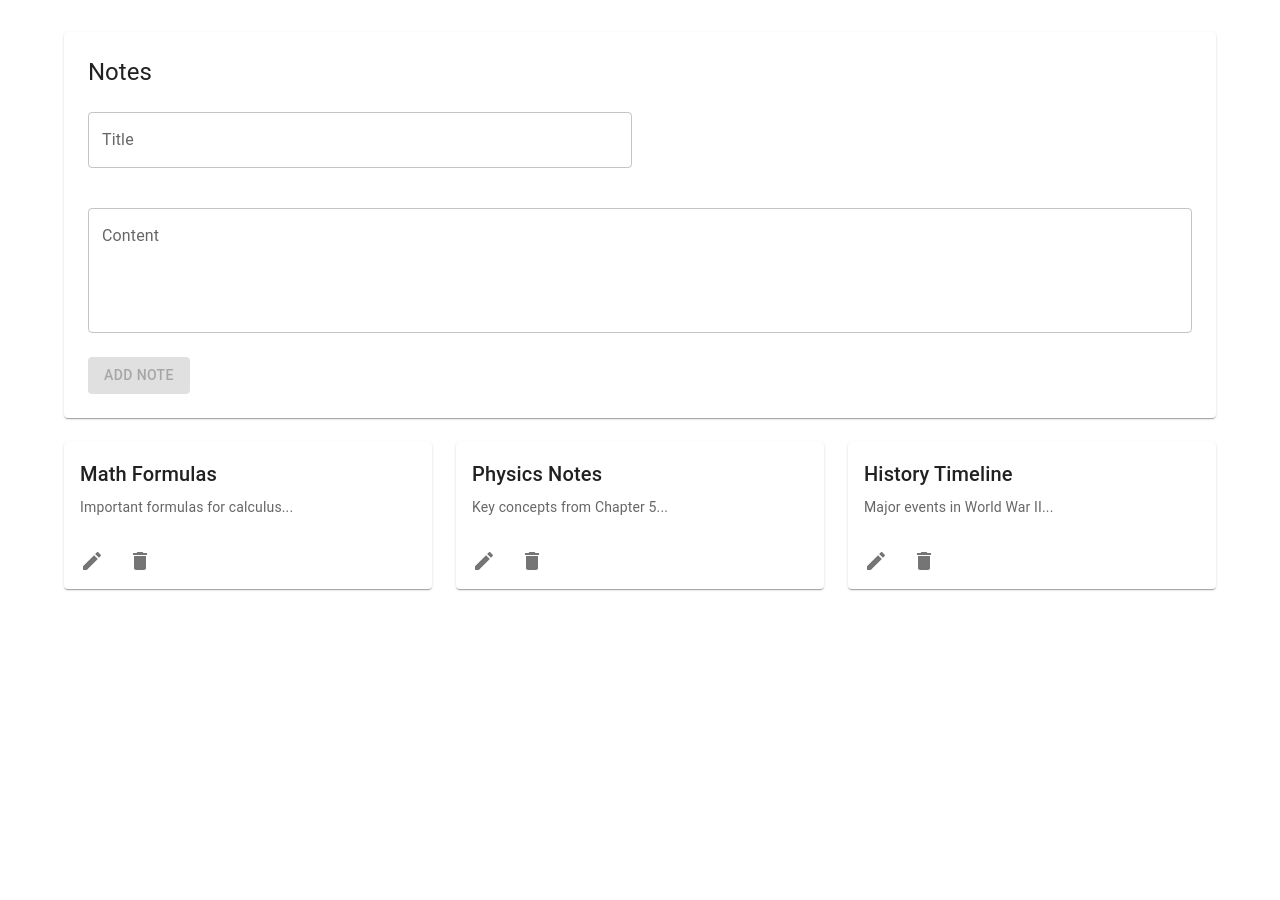
Test case: Notes Component › edits an existing note
Find and click edit button for first note
Step 1. Click the 1st button with test id "EditIcon" → point(92, 561), box [72,541,112,581]
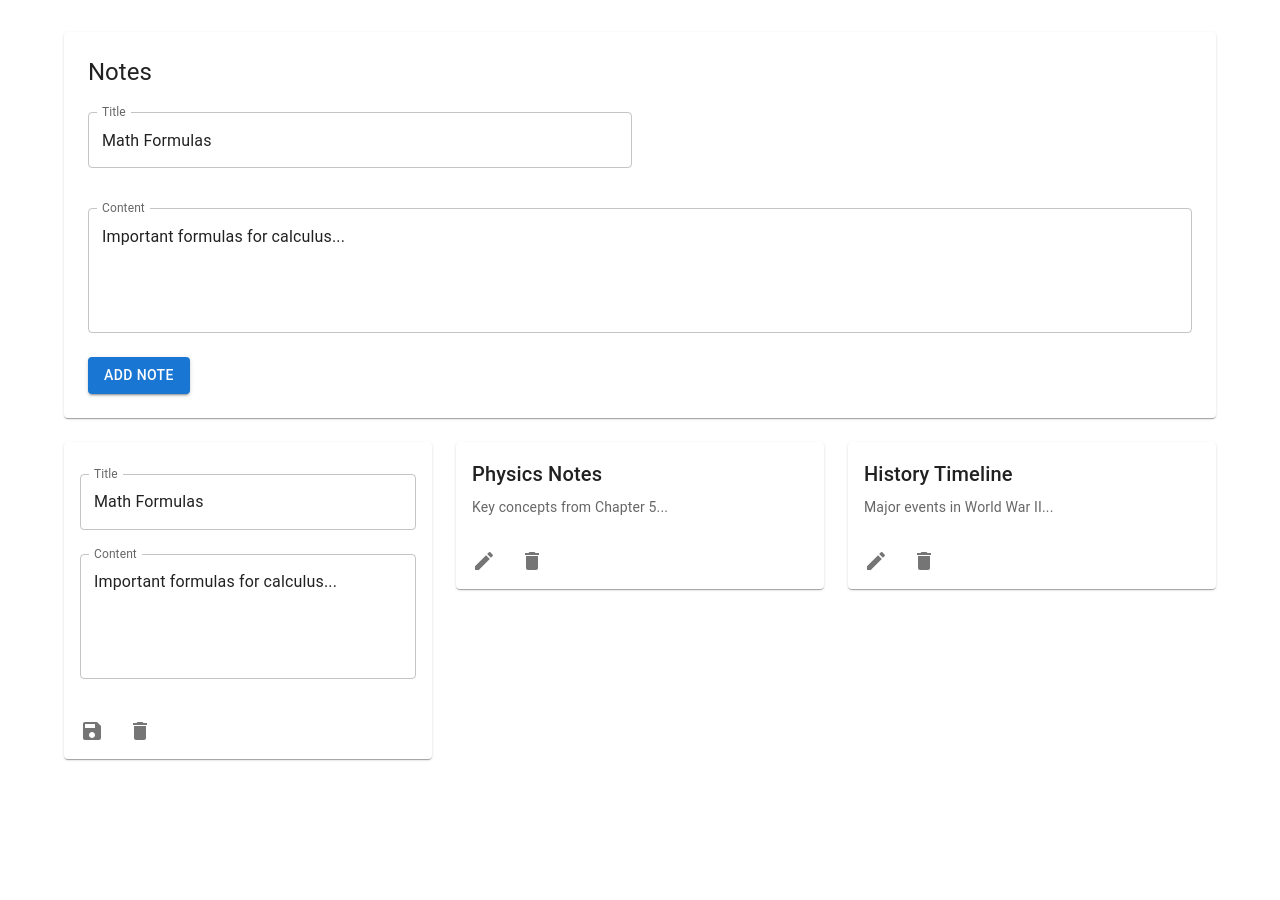
Now the 1st field labelled "Title" holds "Math Formulas"
Now the 1st text box labelled "Content" holds "Important formulas for calculus...", box [102,225,1178,317]
Edit the note
Step 2. Replace the text in the 1st field labelled "Title" with "Updated Math Formulas" → point(360, 140), box [88,112,632,168]
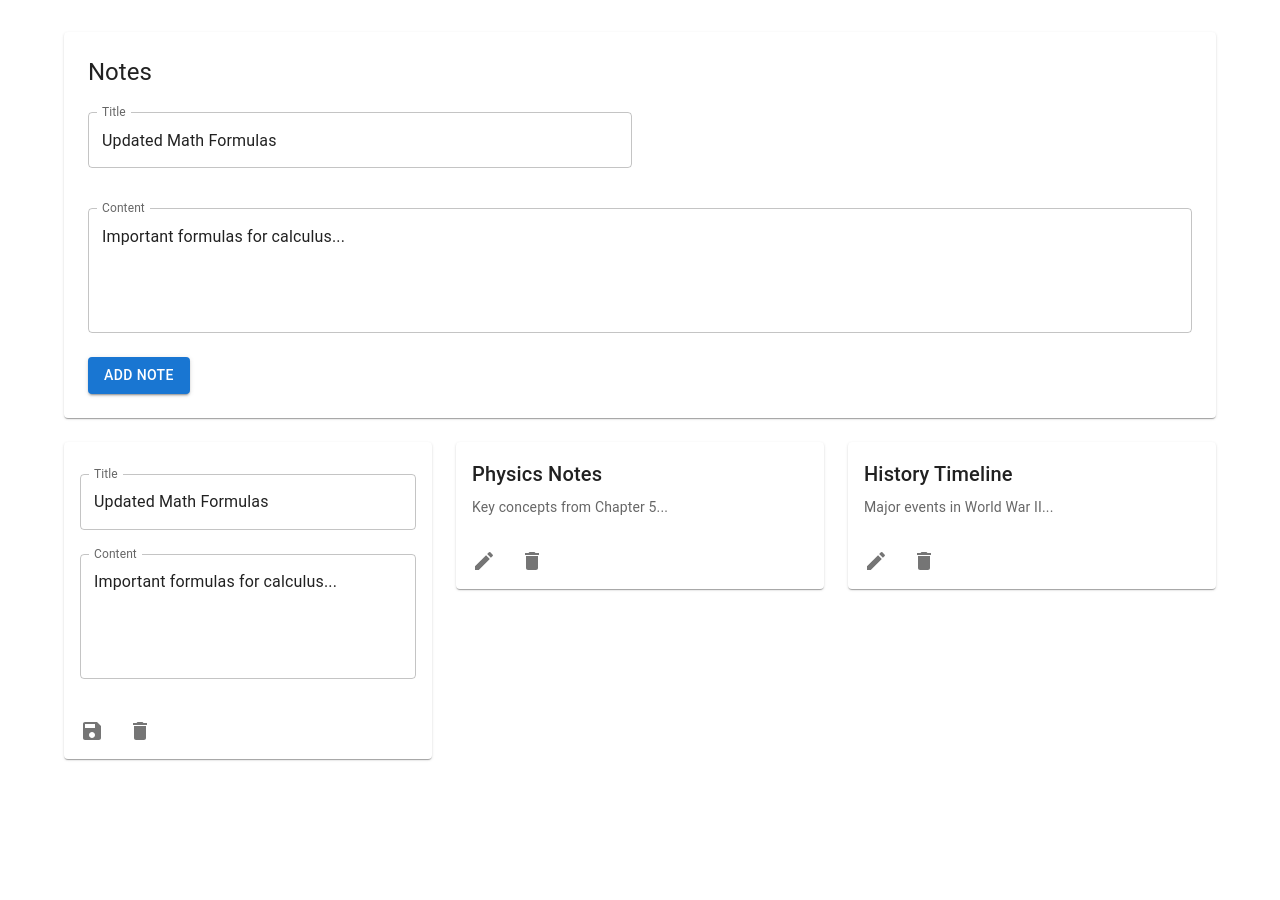
Step 3. Replace the text in the 1st text box labelled "Content" with "Updated calculus formulas..." → point(640, 271), box [102,225,1178,317]
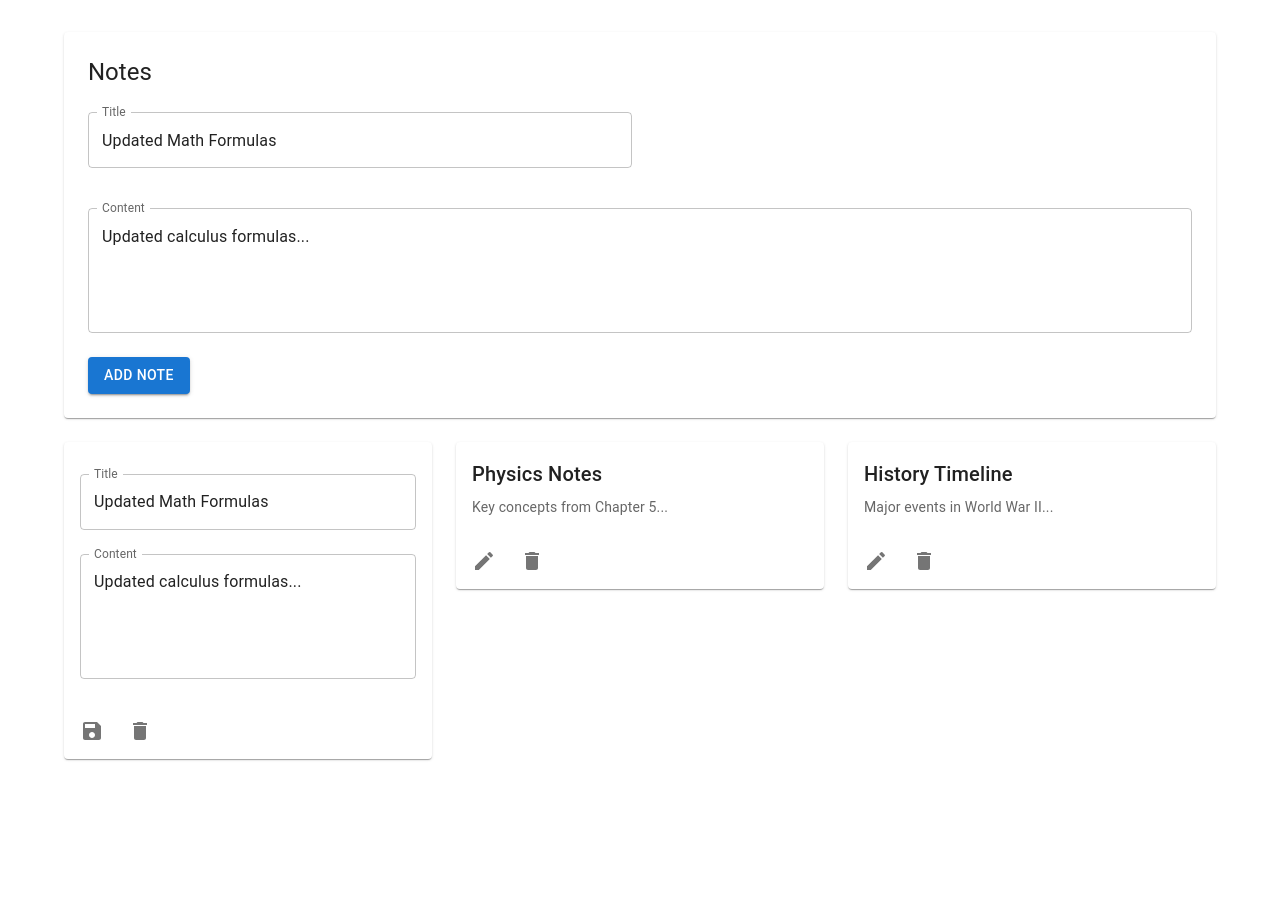
Save the changes
Step 4. Click the button with test id "save-note-1" → point(92, 731), box [72,711,112,751]
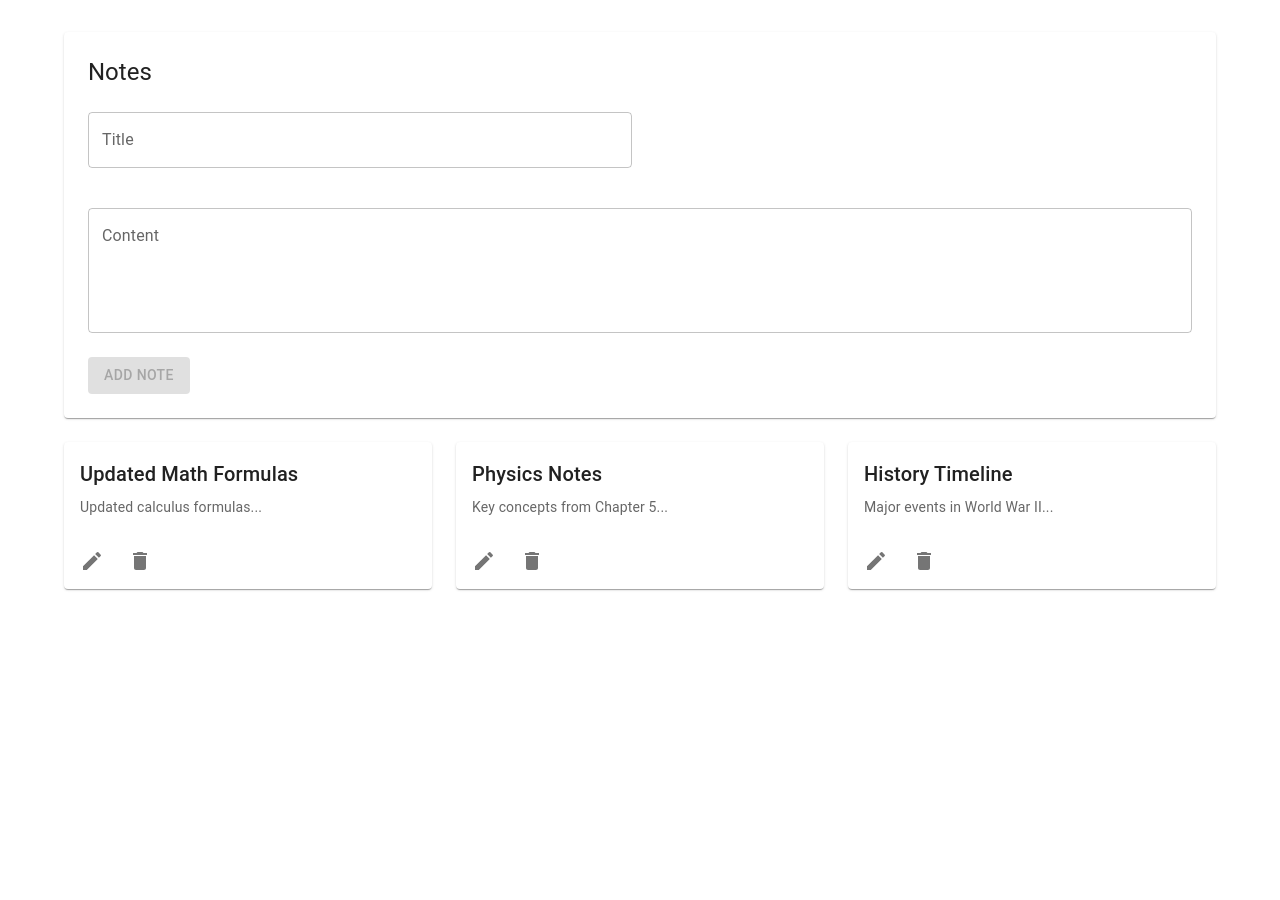
Now the heading "Updated Math Formulas" is shown, box [80,462,298,486]
Now the text "Updated calculus formulas..." is shown, box [80,499,262,515]
